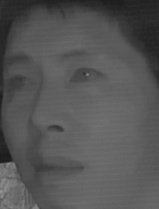eye: (66, 67, 105, 90), (2, 73, 35, 92)
mouth: (27, 151, 88, 184)
